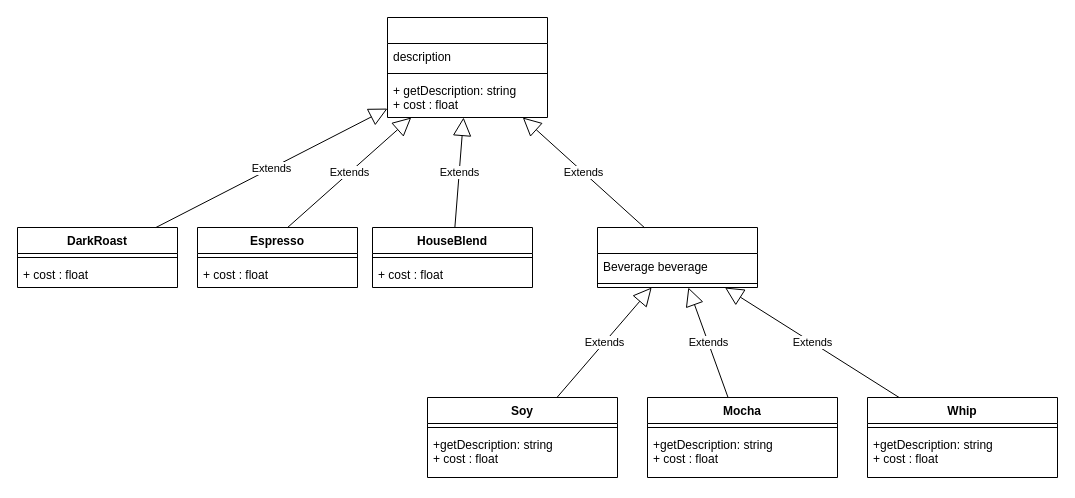
This 1075x498 diagram has some shape labels left out. The shapes that lost their labels are listed below. From the top down, each one's box as (x1, y1, x2, y2) in pixels, then its label:
(386, 16, 548, 118): Beverage
(596, 226, 758, 288): CondimentDecorator
